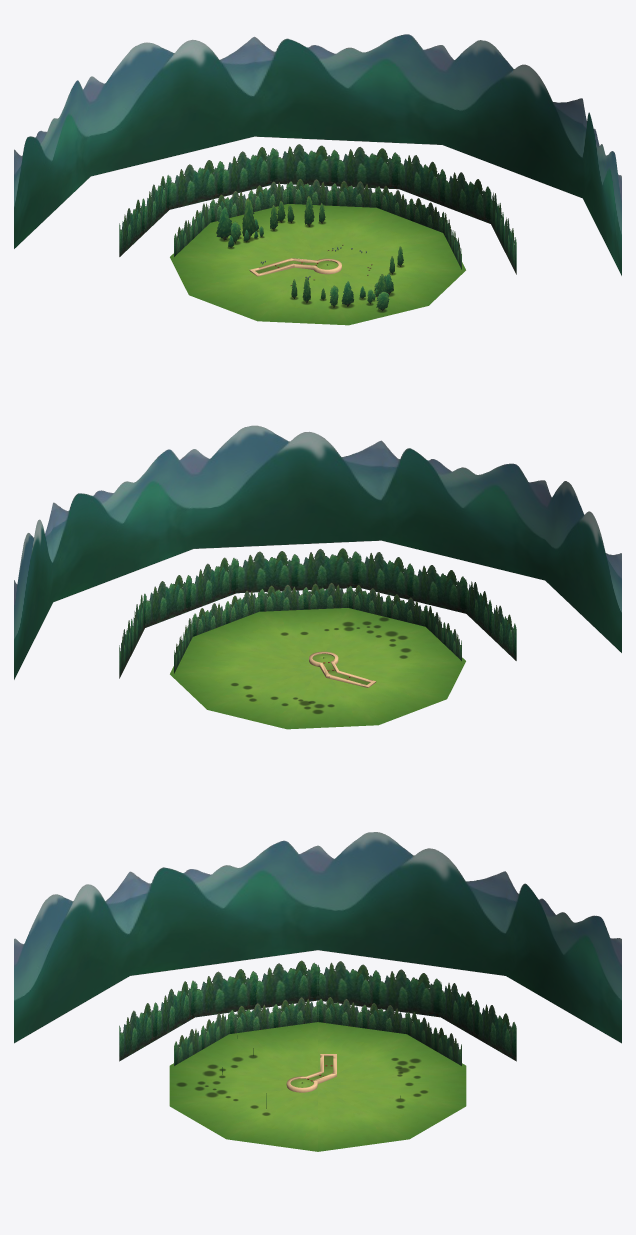
Rendered from hole1.glb.
3 views of the same model, one above another, from view 1: azimuth 30°, elevation 25°; view 2: azimuth 150°, elevation 25°; view 3: azimuth 270°, elevation 25° (orthographic). The views are drawn at different scales.
Visible parts, largest first — view 1: background1, grass_baes, background3, background2, sides; view 2: background1, grass_baes, background3, background2, sides; view 3: background1, grass_baes, background3, background2, sides.
Part boxes in pixels (x1,y1,x2,y2): background1: [14, 34, 621, 275]; grass_baes: [170, 204, 465, 325]; background3: [119, 144, 516, 274]; background2: [174, 179, 461, 269]; sides: [249, 258, 341, 276]; background1: [14, 425, 621, 679]; grass_baes: [170, 608, 465, 729]; background3: [119, 548, 516, 678]; background2: [174, 582, 461, 673]; sides: [309, 651, 376, 687]; background1: [14, 832, 621, 1043]; grass_baes: [169, 1022, 466, 1151]; background3: [119, 960, 516, 1061]; background2: [174, 997, 461, 1065]; sides: [286, 1054, 336, 1092].
Size of what is drawn, in the model's own units: 347 by 80.01 by 330.
Materials: 10 (9 with a texture image).
